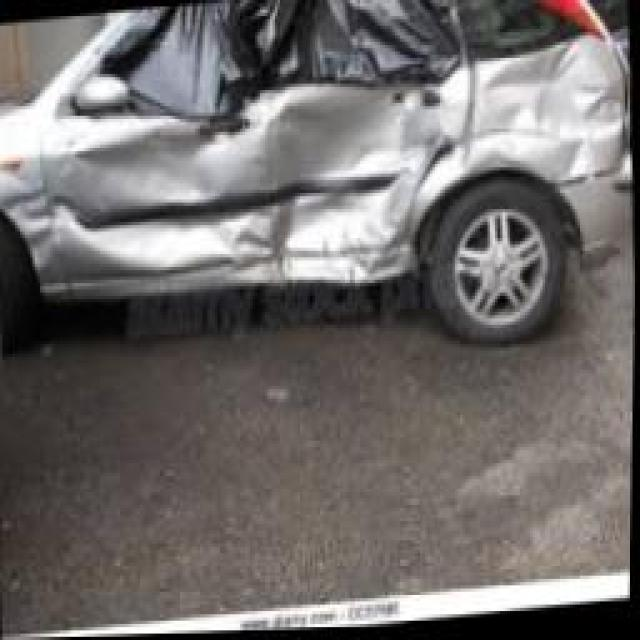Door: (47, 0, 285, 290), (268, 0, 483, 257)
Fender: (476, 56, 628, 185)
